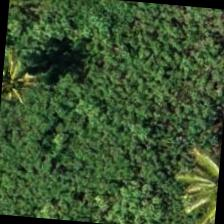Kelapa_Sawit: (0, 34, 56, 129), (162, 145, 221, 223)
